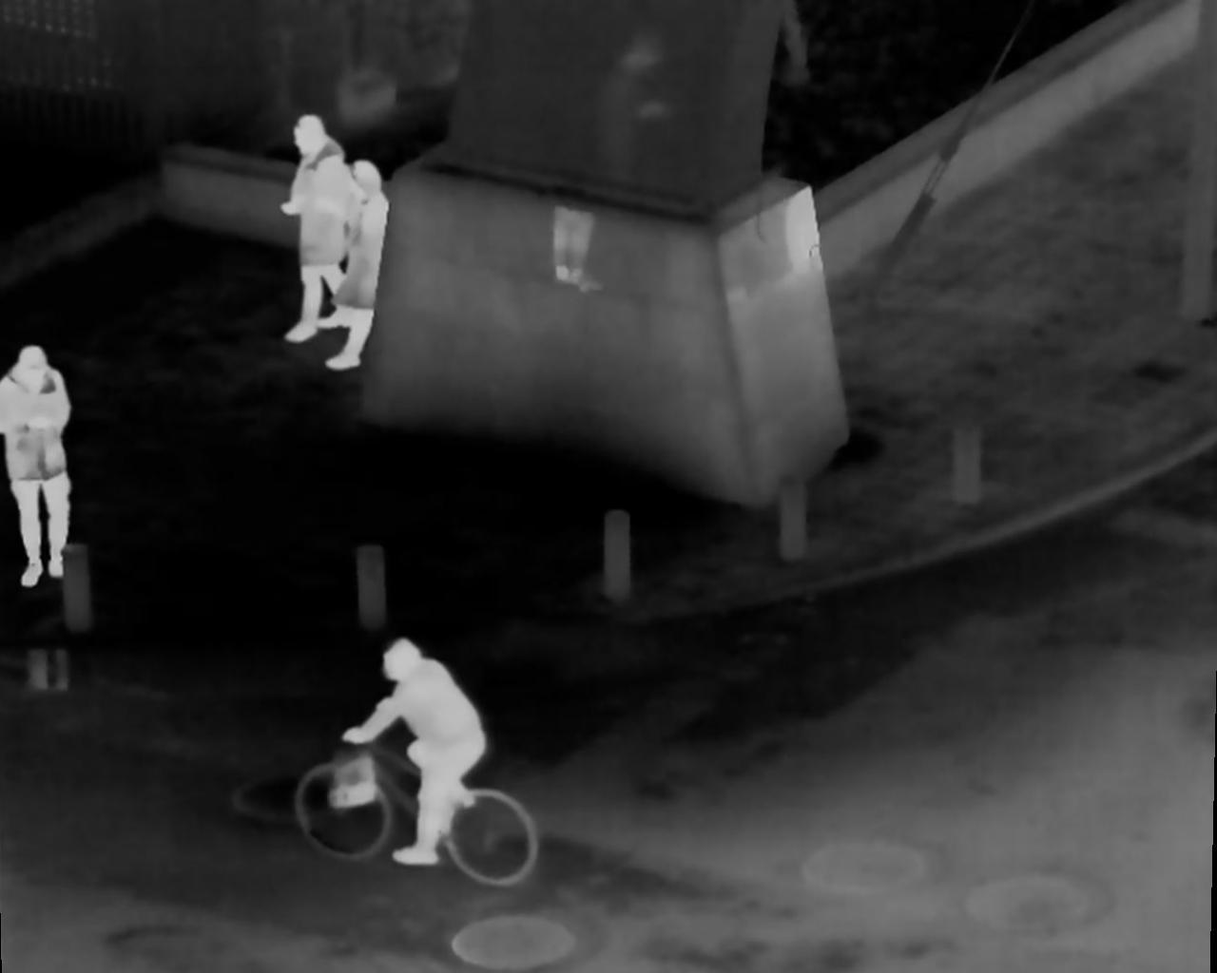person: (339, 639, 488, 862), (270, 113, 352, 346), (330, 159, 389, 372)
